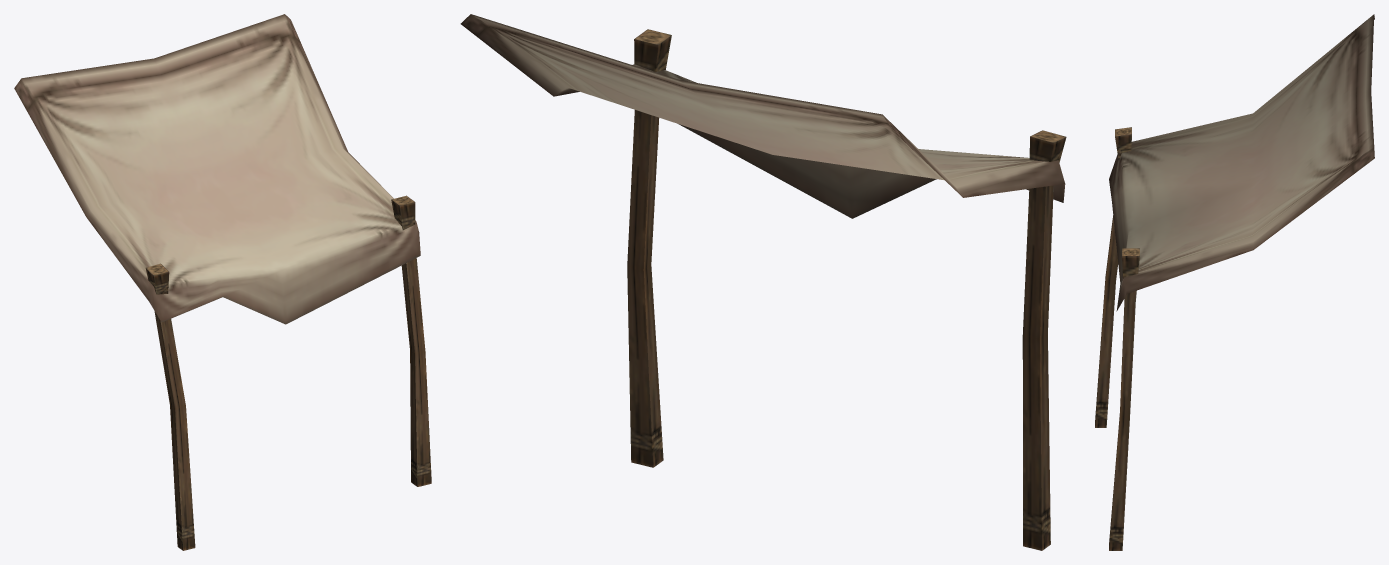
Rendered from 2_YiZhan_PengZi_01.FBX.
The picture shows the model from 3 angles, left to right: view 1: azimuth 30°, elevation 25°; view 2: azimuth 150°, elevation 25°; view 3: azimuth 270°, elevation 25°; orthographic projection. The views are drawn at different scales.
Parts seen in each view (by area): view 1: 2_YiZhan_PengZi_01; view 2: 2_YiZhan_PengZi_01; view 3: 2_YiZhan_PengZi_01.
Boxes of the visible parts, x1,y1,x2,y2 form: 2_YiZhan_PengZi_01: [14, 14, 431, 550]; 2_YiZhan_PengZi_01: [460, 14, 1066, 550]; 2_YiZhan_PengZi_01: [1095, 14, 1374, 550].
Size of the model in its own units: 452 by 568 by 366.
